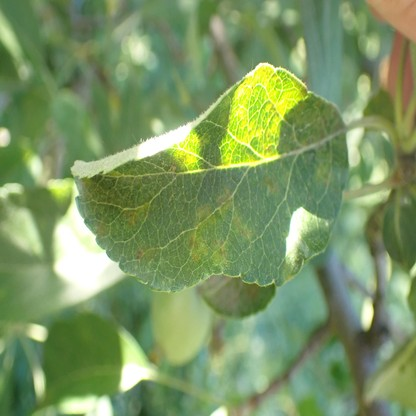powdery_mildew: (200, 274, 240, 313)
scab: (78, 67, 343, 281)
